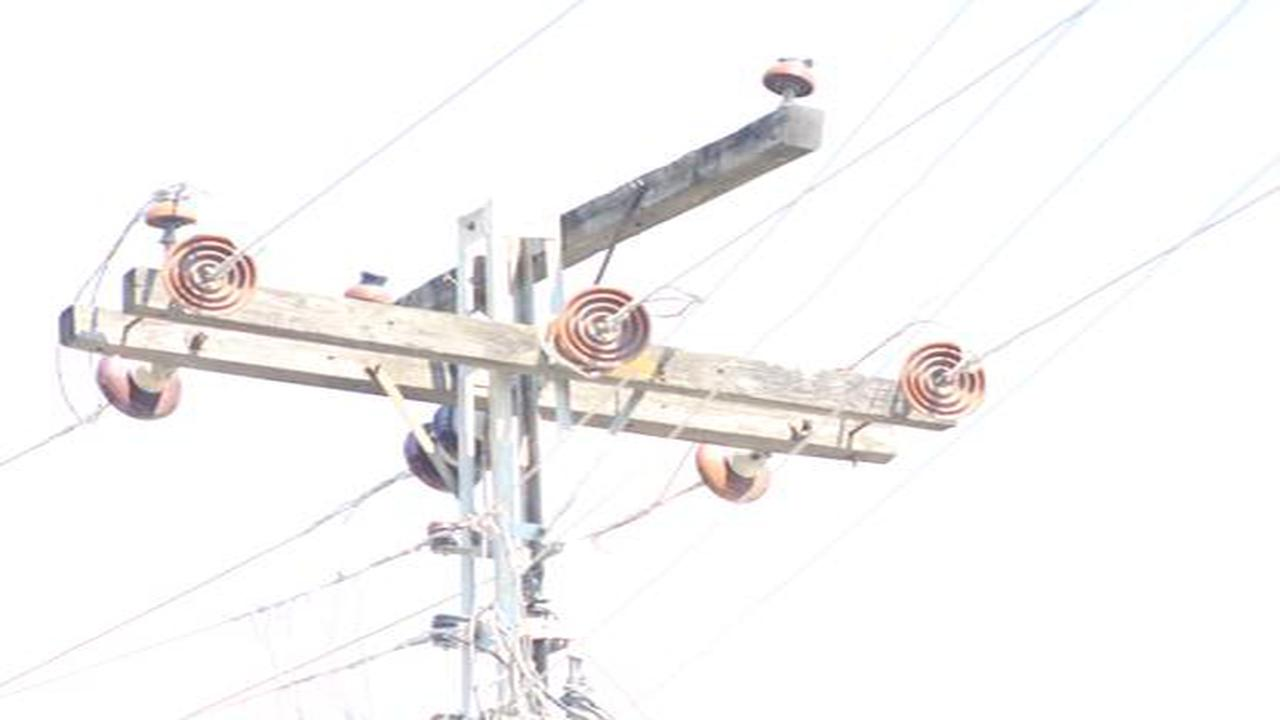insulator_disc: (161, 233, 255, 324), (561, 289, 653, 369), (897, 340, 986, 421), (97, 355, 182, 419), (694, 441, 774, 505)
insulator_pin: (760, 53, 822, 104), (141, 188, 202, 235), (342, 268, 400, 306)
